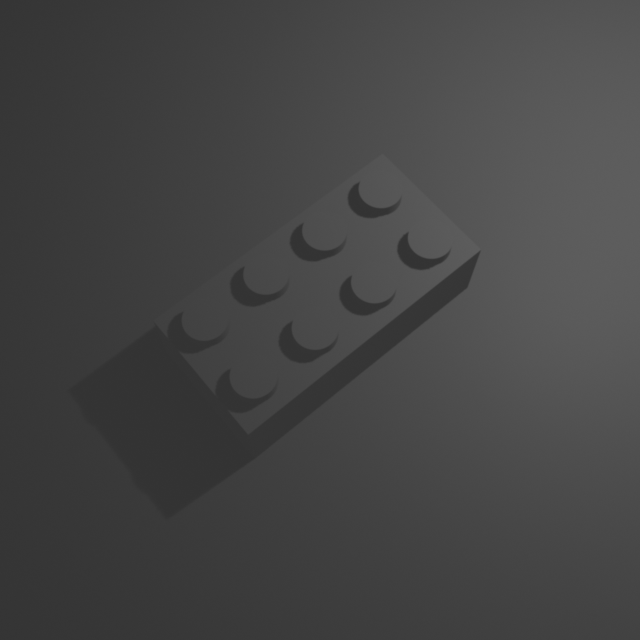lego_2x4: (150, 146, 484, 459)
